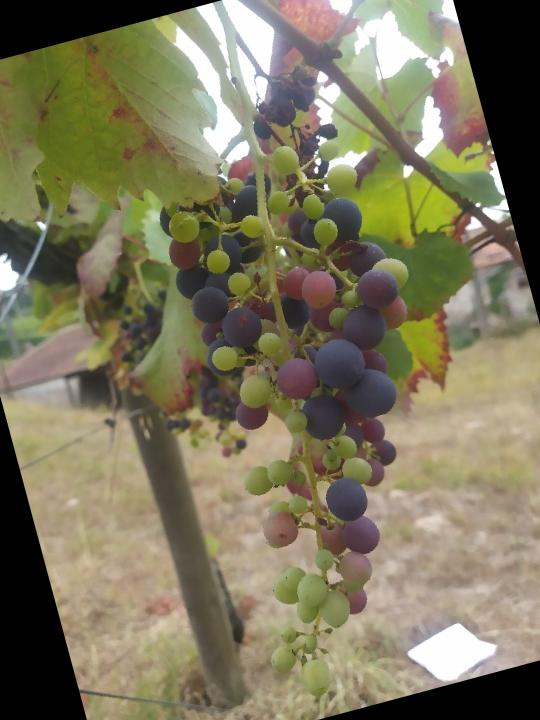grape: (121, 49, 512, 708)
